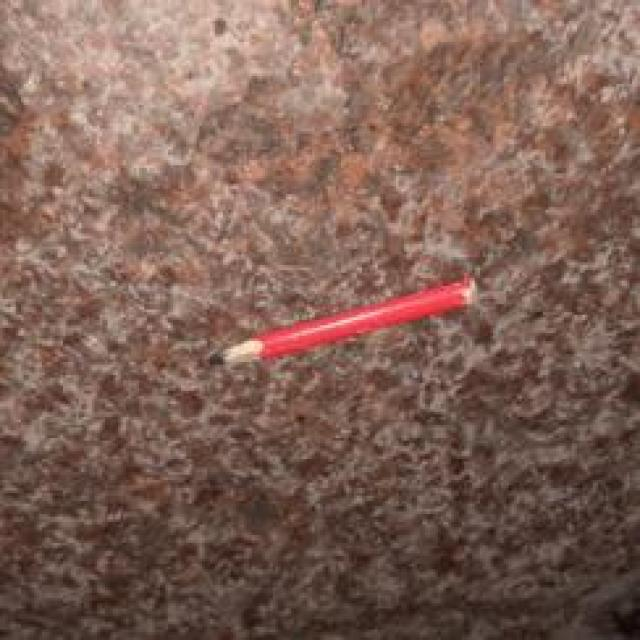pencil: (207, 273, 475, 367)
